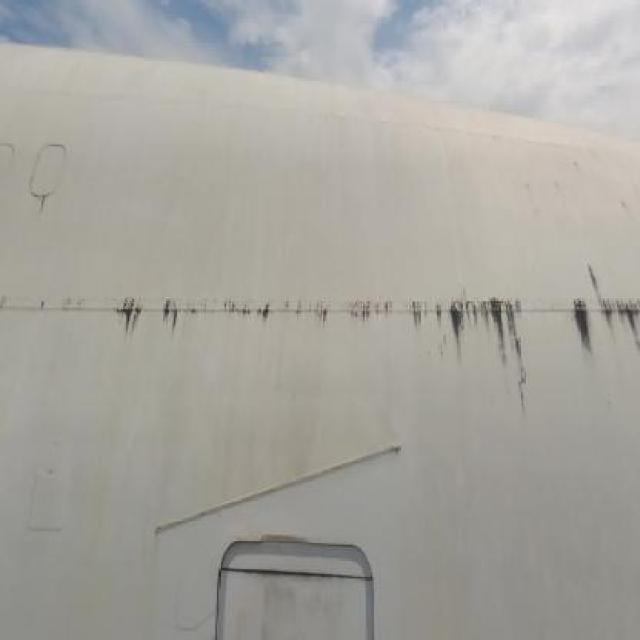Rust: (100, 274, 640, 401), (537, 158, 637, 294), (37, 188, 51, 224)
Scartch: (256, 574, 367, 638)
